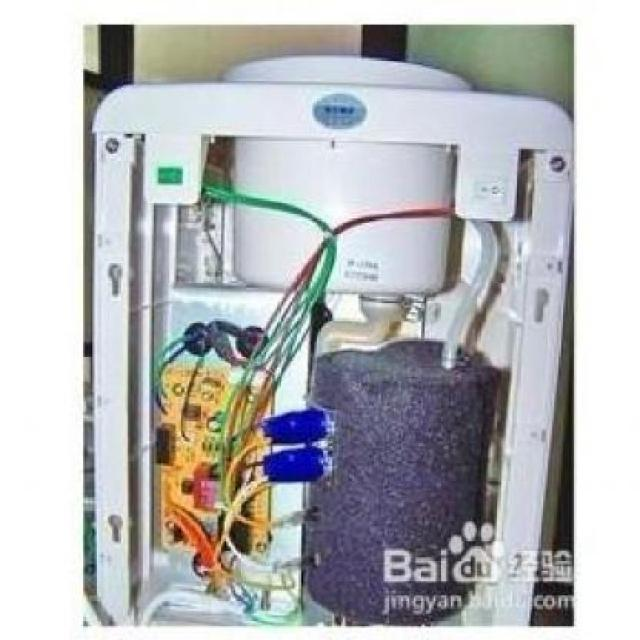cooler: (94, 55, 573, 627)
